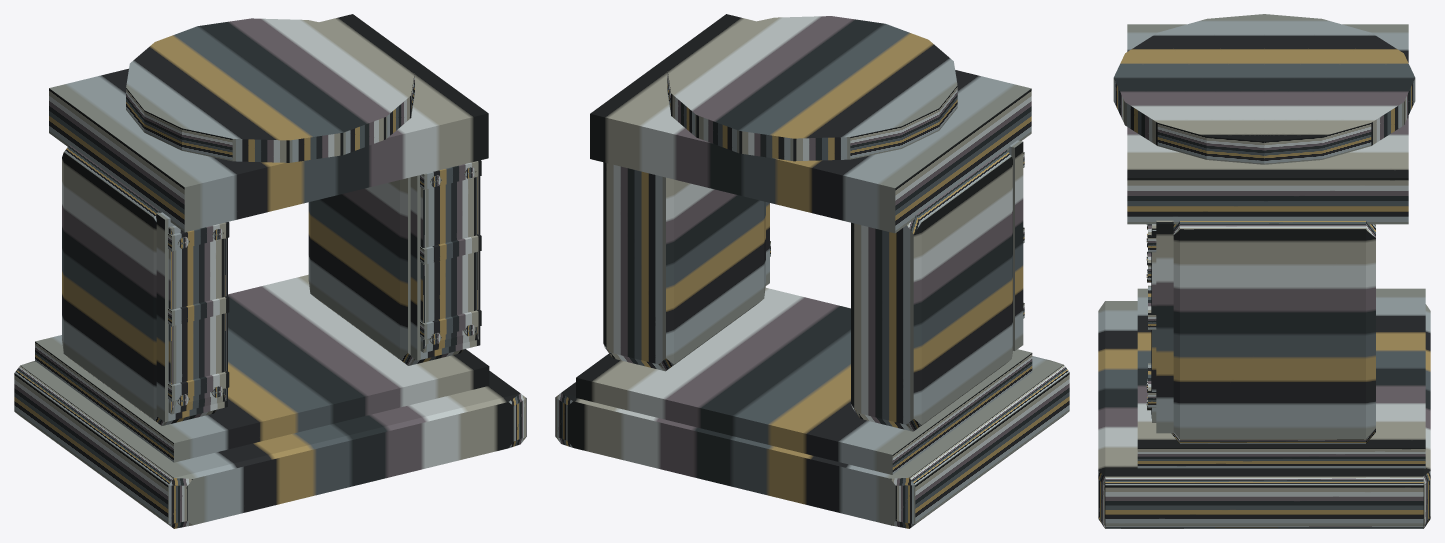
The model's file is CarrierHeavyTurretBase.obj.
3 views of the same model, side by side, from view 1: azimuth 30°, elevation 25°; view 2: azimuth 150°, elevation 25°; view 3: azimuth 270°, elevation 25° (orthographic). The views are drawn at different scales.
Visible parts, largest first — view 1: CarrierHeavyTurretBase; view 2: CarrierHeavyTurretBase; view 3: CarrierHeavyTurretBase.
Part boxes in pixels (<box>): CarrierHeavyTurretBase: <box>14,14,526,528</box>; CarrierHeavyTurretBase: <box>555,14,1069,528</box>; CarrierHeavyTurretBase: <box>1098,14,1430,528</box>.
Size of the model in its own units: 2.5 by 2.34 by 1.94.
1 material, 1 textured.
